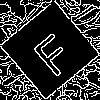F: (24, 25, 78, 80)
